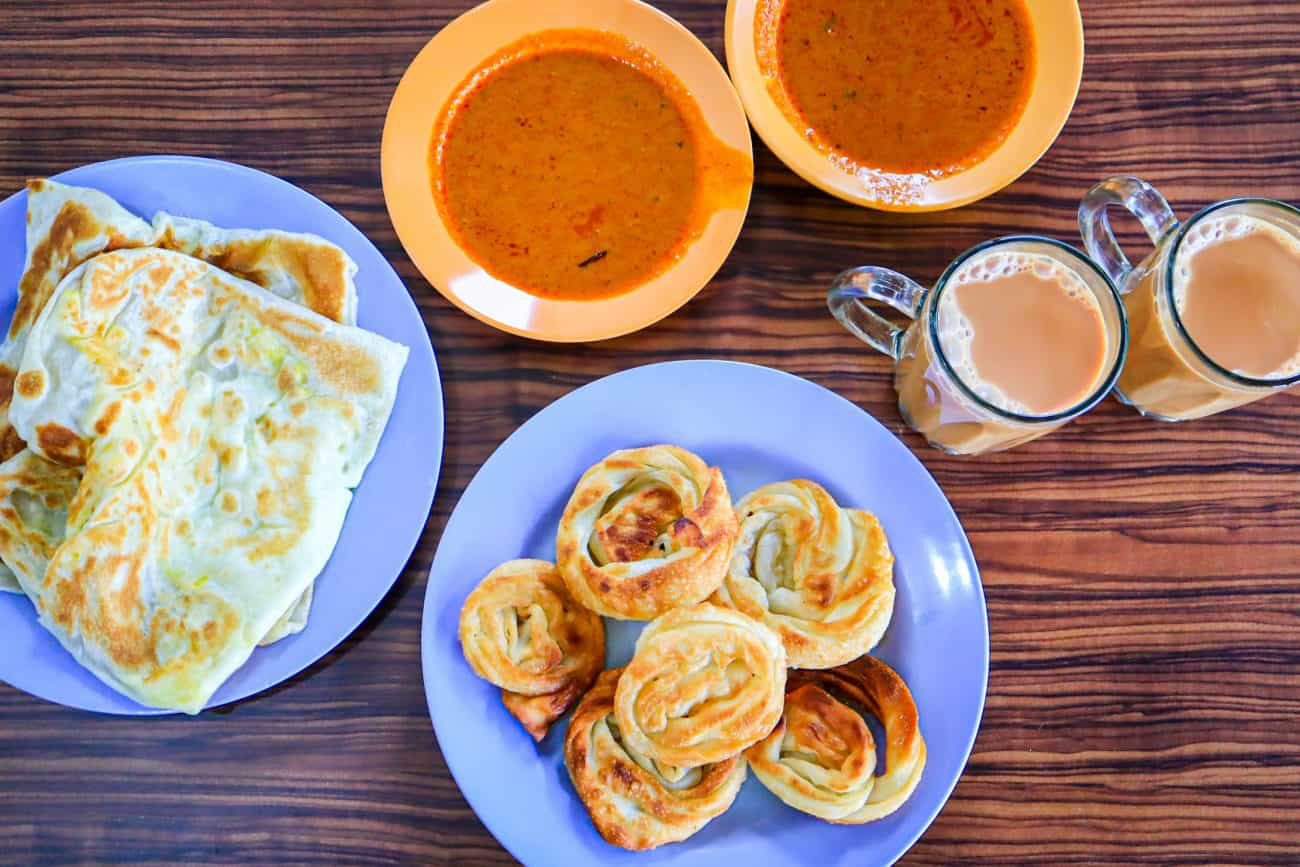Prata: (7, 209, 399, 690), (714, 491, 908, 662), (748, 653, 935, 826), (557, 680, 755, 832), (617, 598, 788, 764), (555, 455, 743, 598), (449, 551, 622, 698)
